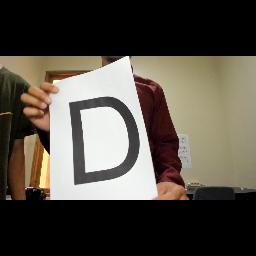d: (64, 92, 144, 186)
